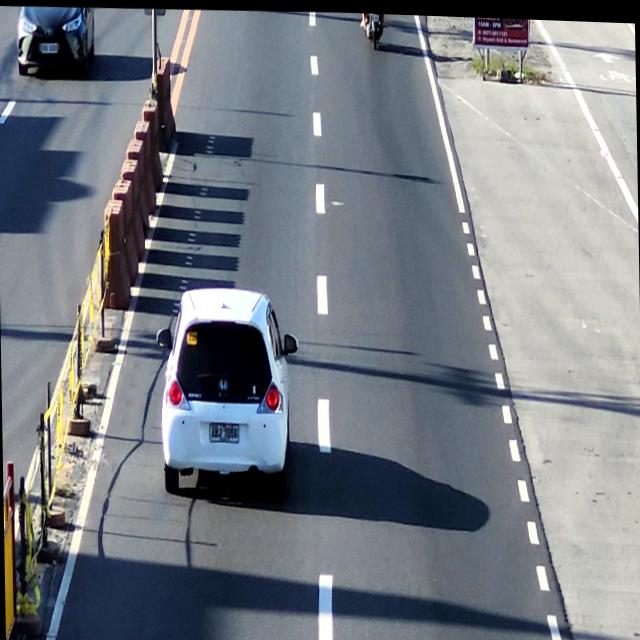Car: (158, 283, 294, 498)
License-Plate: (207, 412, 241, 443)
Motorcycle: (359, 10, 385, 51)
